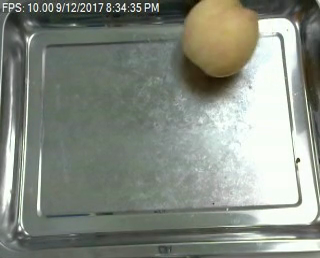Peach: (181, 0, 259, 77)
